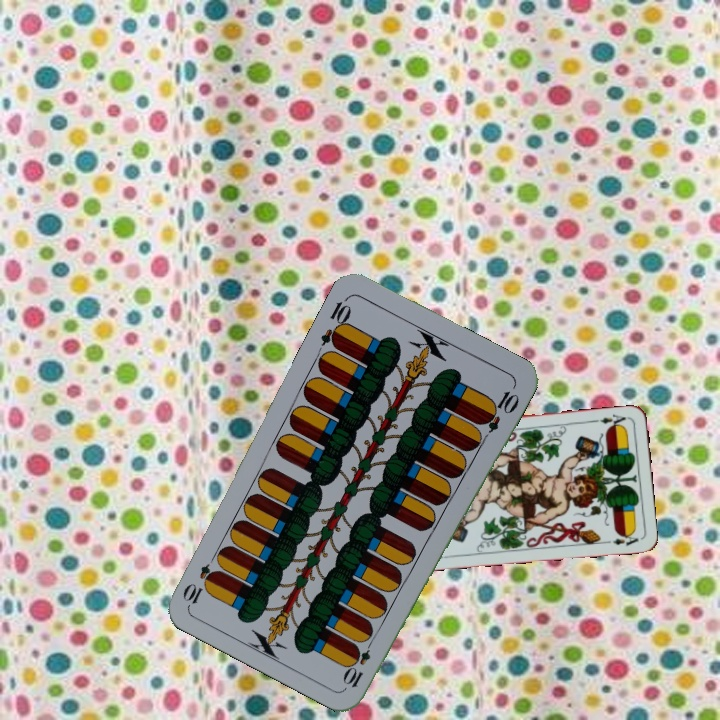E10: (316, 293, 354, 351), (341, 633, 377, 690)
EA: (590, 410, 631, 430)
